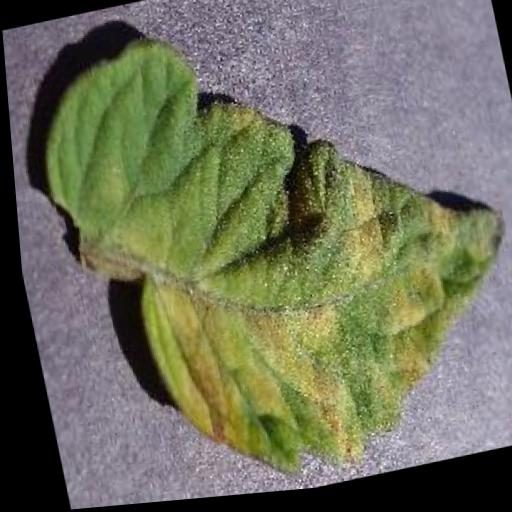Leaf Mold: (19, 0, 512, 511)
